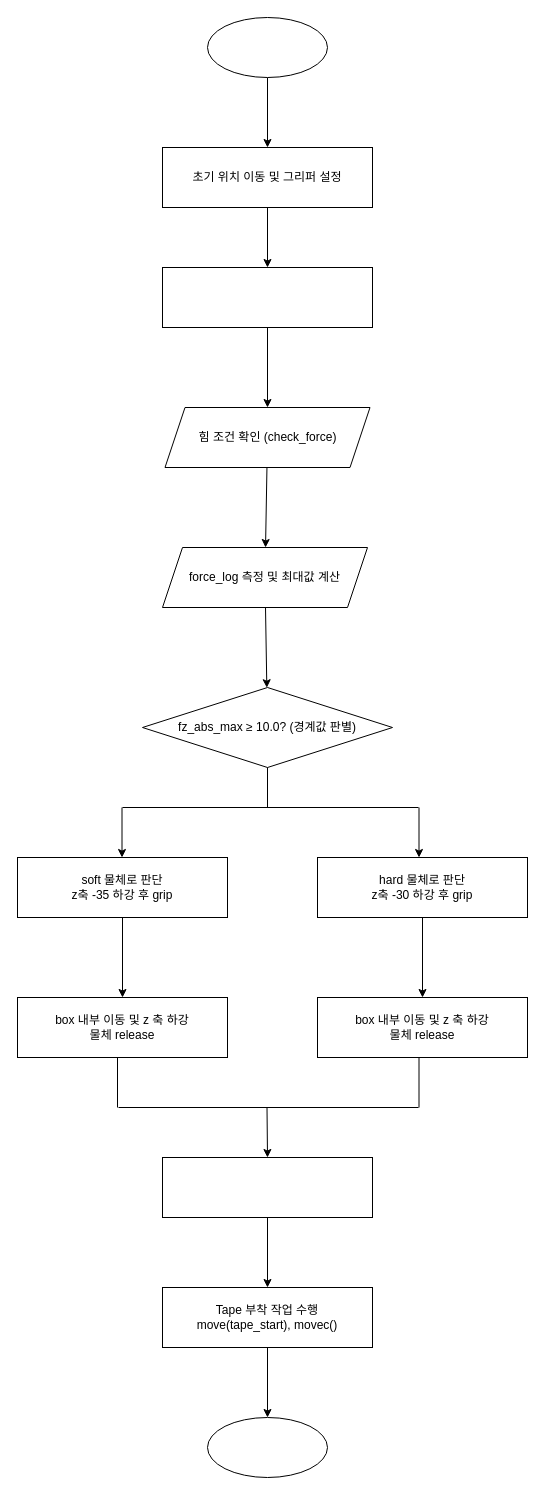
Image size: 545x1495. Some labels were removed from this diagram. Each missing label, with the centre of its shape:
End: point (267, 1447)
Lid 닫기 작업 수행 (box_top -> box_close -> 진동): point (267, 1187)
Start: point (267, 47)
박스 위치 이동 및 순응 제어, 하중 적용: point (267, 297)
